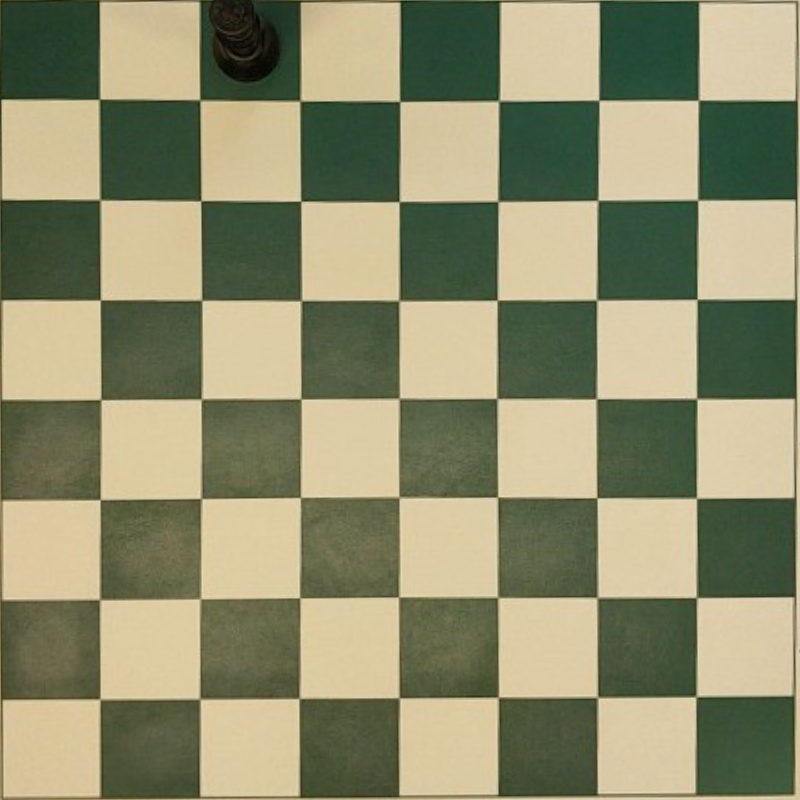black-king: (208, 0, 279, 80)
